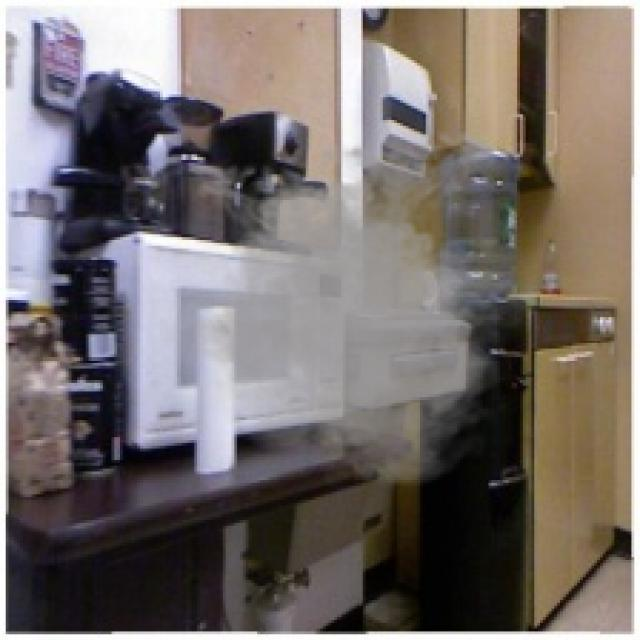Smoke: (135, 120, 560, 492)
